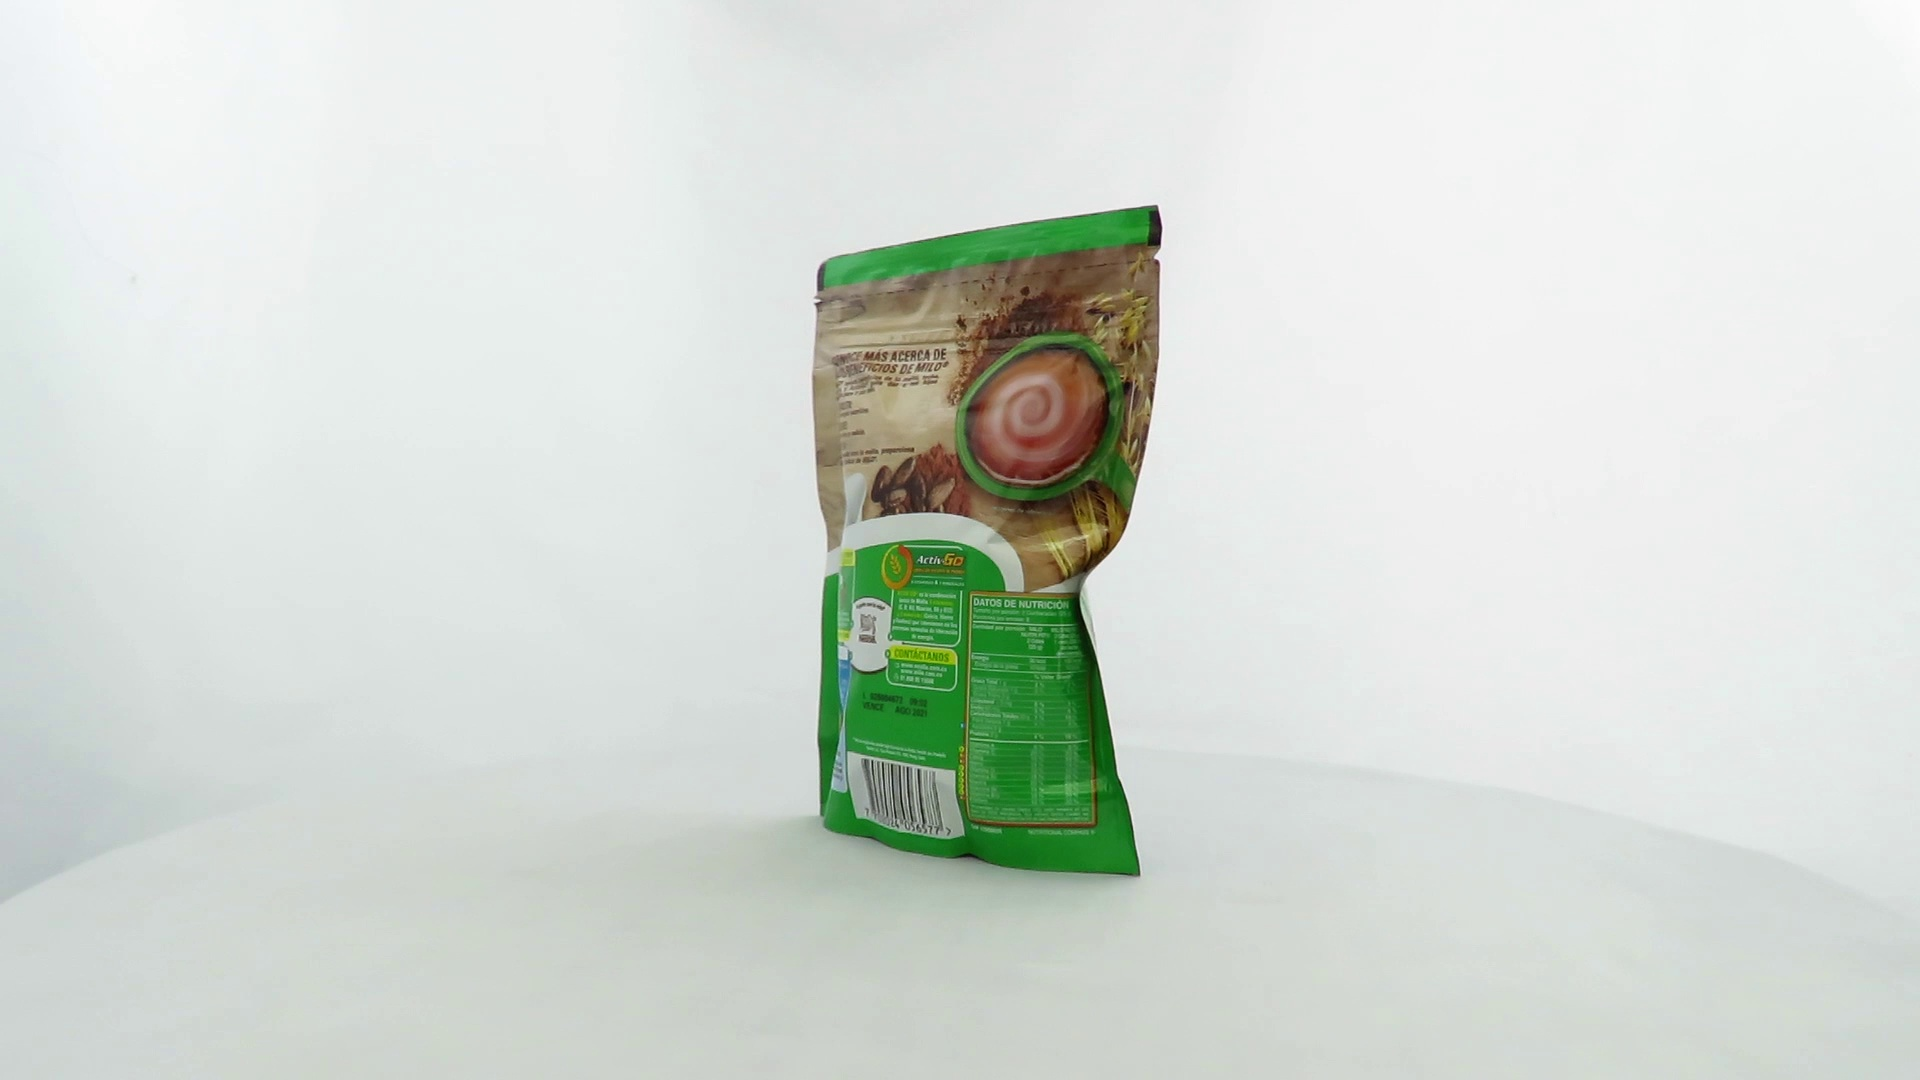COL0170205DYP20000: (807, 200, 1168, 884)
